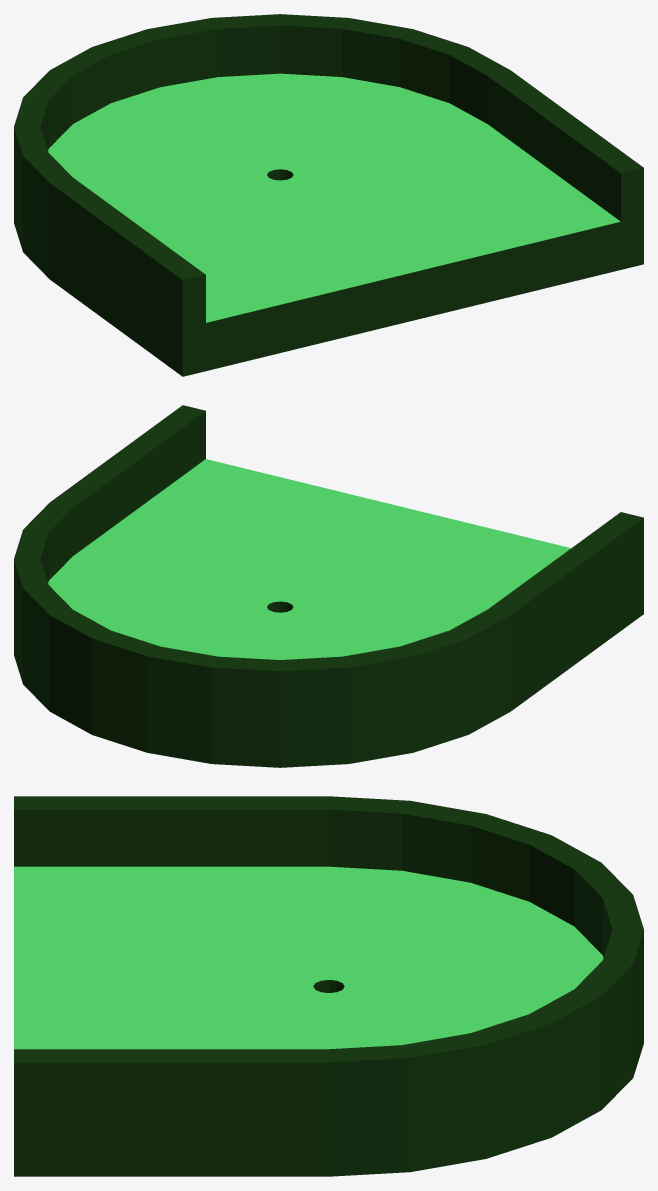
The model's file is MG Rounded Hole.fbx.
3 renders of one model, top to bottom at view 1: azimuth 30°, elevation 25°; view 2: azimuth 150°, elevation 25°; view 3: azimuth 270°, elevation 25°, orthographic. The views are drawn at different scales.
Visible parts, largest first — view 1: MG Rounded Hole; view 2: MG Rounded Hole; view 3: MG Rounded Hole.
Boxes of the visible parts, x1,y1,x2,y2 form: MG Rounded Hole: (14, 14, 643, 376); MG Rounded Hole: (14, 405, 643, 767); MG Rounded Hole: (14, 796, 643, 1176).
Size of the model in its own units: 200 by 40 by 200.
